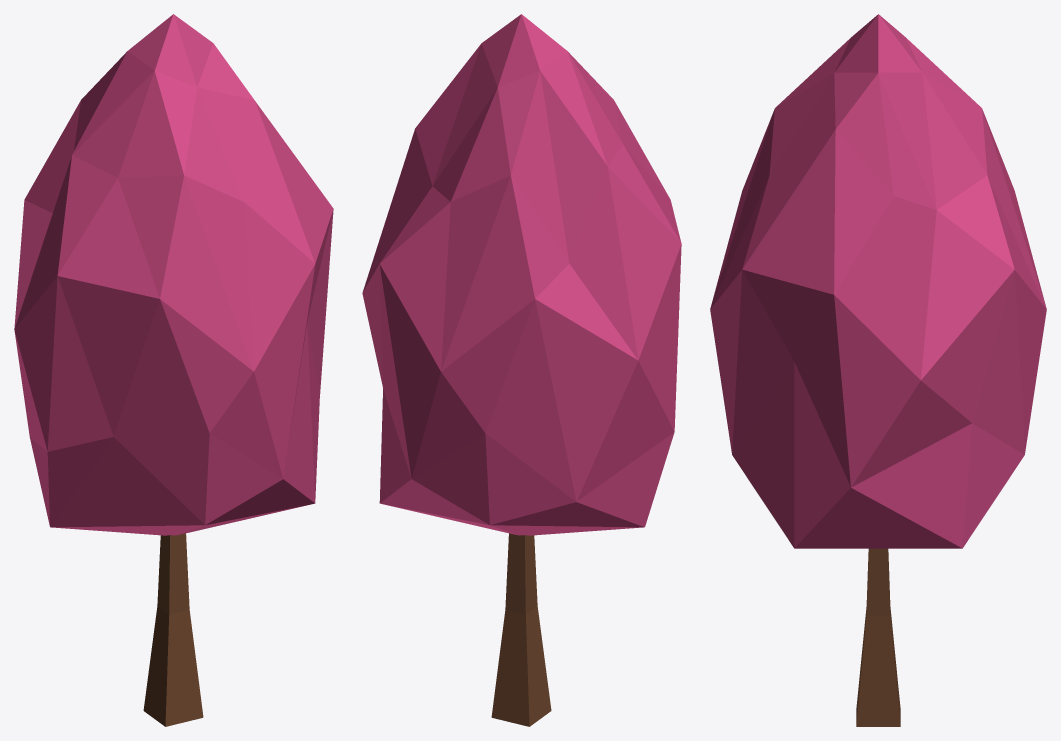
File: Tree_40_Pink.fbx
The picture shows the model from 3 angles, left to right: view 1: azimuth 30°, elevation 25°; view 2: azimuth 150°, elevation 25°; view 3: azimuth 270°, elevation 25°; orthographic projection.
Parts seen in each view (by area): view 1: Tree_40_Pink_Part_1, Tree_40_Pink_Part_2; view 2: Tree_40_Pink_Part_1, Tree_40_Pink_Part_2; view 3: Tree_40_Pink_Part_1, Tree_40_Pink_Part_2.
Boxes of the visible parts, left/top/right/bottom form: Tree_40_Pink_Part_1: left=14, top=14, right=333, bottom=535; Tree_40_Pink_Part_2: left=143, top=533, right=203, bottom=726; Tree_40_Pink_Part_1: left=362, top=14, right=681, bottom=535; Tree_40_Pink_Part_2: left=491, top=533, right=551, bottom=726; Tree_40_Pink_Part_1: left=710, top=14, right=1046, bottom=548; Tree_40_Pink_Part_2: left=856, top=548, right=900, bottom=726.
Size of the model in its own units: 331 by 798 by 346.
